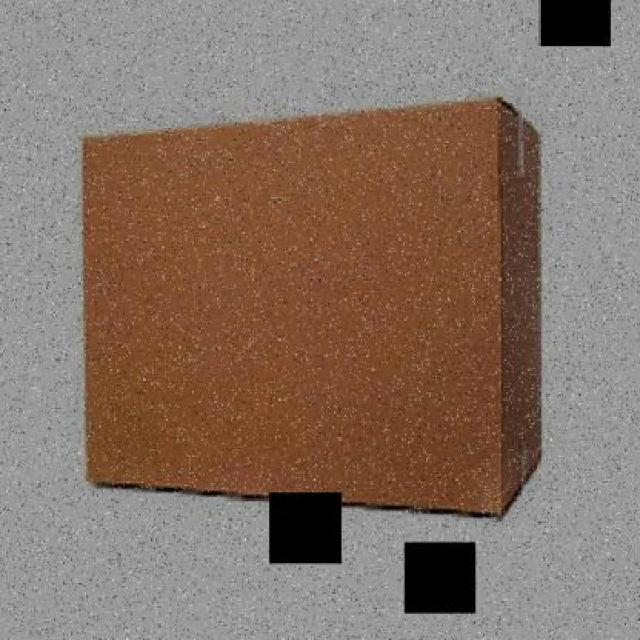box: (76, 90, 550, 530)
